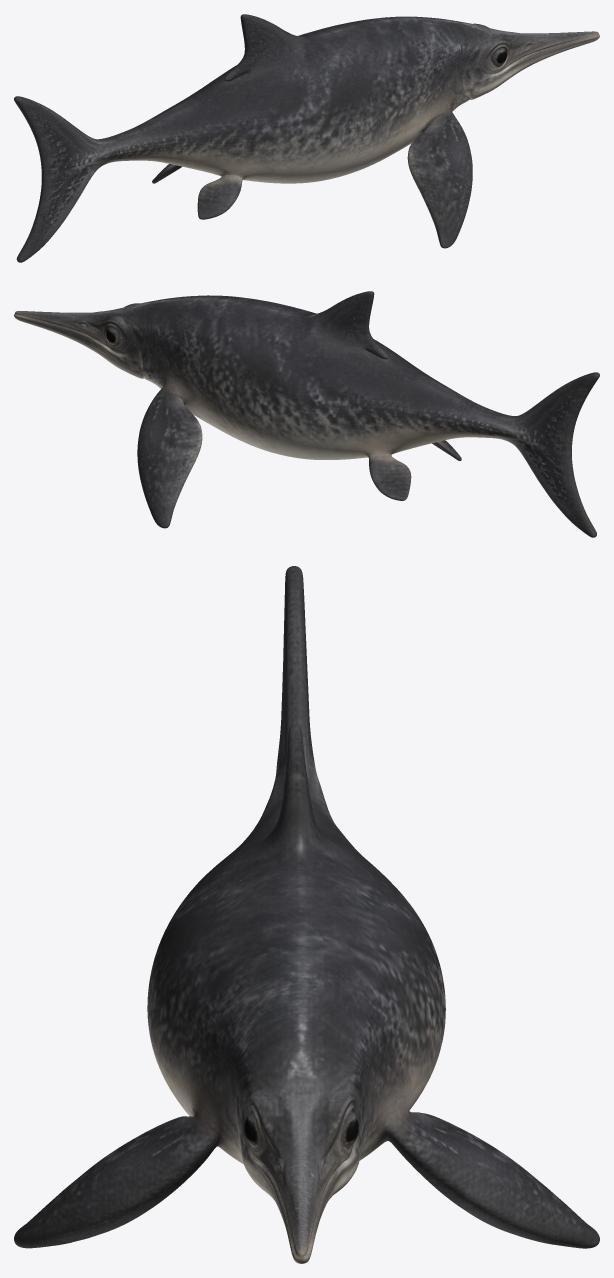
The picture shows the model from 3 angles, top to bottom: view 1: azimuth 30°, elevation 25°; view 2: azimuth 150°, elevation 25°; view 3: azimuth 270°, elevation 25°; orthographic projection. The views are drawn at different scales.
Parts seen in each view (by area): view 1: Authored orientation; view 2: Authored orientation; view 3: Authored orientation.
Part boxes in pixels (bbox=[...]): Authored orientation: bbox=[14, 14, 599, 262]; Authored orientation: bbox=[14, 291, 599, 537]; Authored orientation: bbox=[14, 566, 599, 1263].
Bounding box in the file's own units: 4.5 × 1.55 × 2.06.
1 material, 1 textured.
